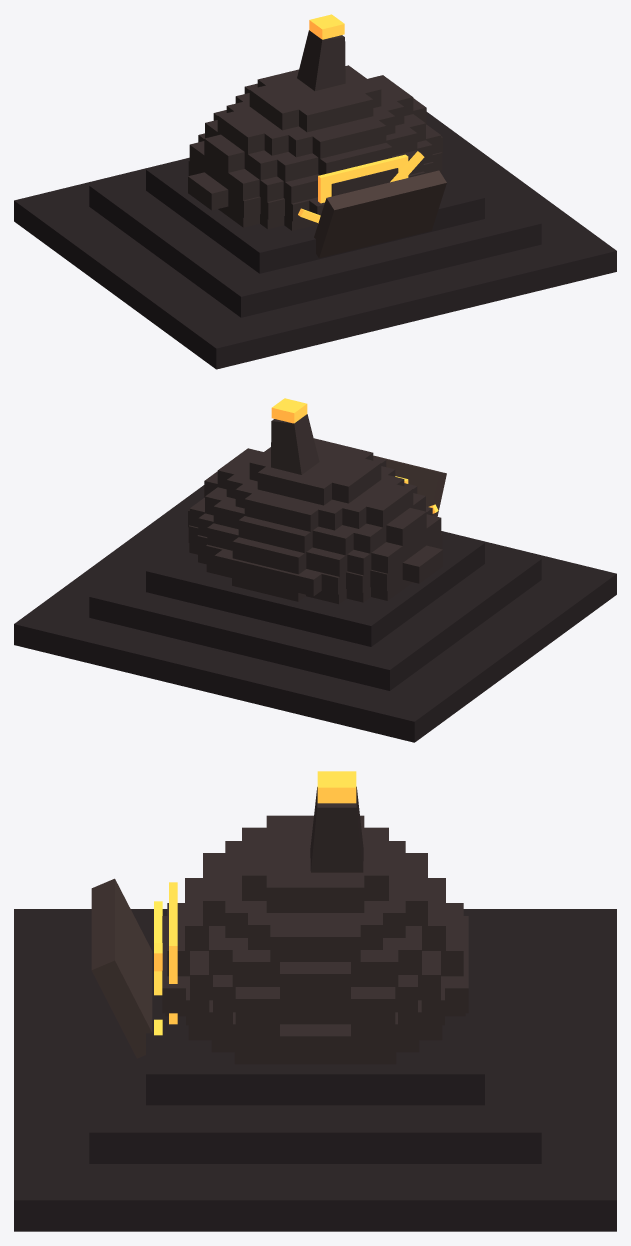
File: CACHE_TRENCH.glb
3 views of the same model, one above another, from view 1: azimuth 30°, elevation 25°; view 2: azimuth 150°, elevation 25°; view 3: azimuth 270°, elevation 25° (orthographic). The views are drawn at different scales.
Parts seen in each view (by area): view 1: CACHE_TRENCH_Main, CACHE_TRENCH_Accent, CACHE_TRENCH_Lid, CACHE_TRENCH_Glow; view 2: CACHE_TRENCH_Main, CACHE_TRENCH_Accent, CACHE_TRENCH_Lid, CACHE_TRENCH_Glow; view 3: CACHE_TRENCH_Main, CACHE_TRENCH_Accent, CACHE_TRENCH_Lid, CACHE_TRENCH_Glow.
Boxes of the visible parts, x1=… form: CACHE_TRENCH_Main: x1=14, y1=112, x2=616, y2=369; CACHE_TRENCH_Accent: x1=188, y1=30, x2=442, y2=230; CACHE_TRENCH_Lid: x1=314, y1=170, x2=446, y2=258; CACHE_TRENCH_Glow: x1=298, y1=14, x2=424, y2=223; CACHE_TRENCH_Main: x1=14, y1=485, x2=616, y2=742; CACHE_TRENCH_Accent: x1=188, y1=414, x2=442, y2=604; CACHE_TRENCH_Lid: x1=373, y1=455, x2=446, y2=516; CACHE_TRENCH_Glow: x1=271, y1=398, x2=438, y2=513; CACHE_TRENCH_Main: x1=14, y1=909, x2=616, y2=1231; CACHE_TRENCH_Accent: x1=162, y1=786, x2=468, y2=1064; CACHE_TRENCH_Lid: x1=91, y1=878, x2=152, y2=1058; CACHE_TRENCH_Glow: x1=154, y1=771, x2=356, y2=1035.
Bounding box in the file's own units: 3.2 × 1.64 × 2.8.
